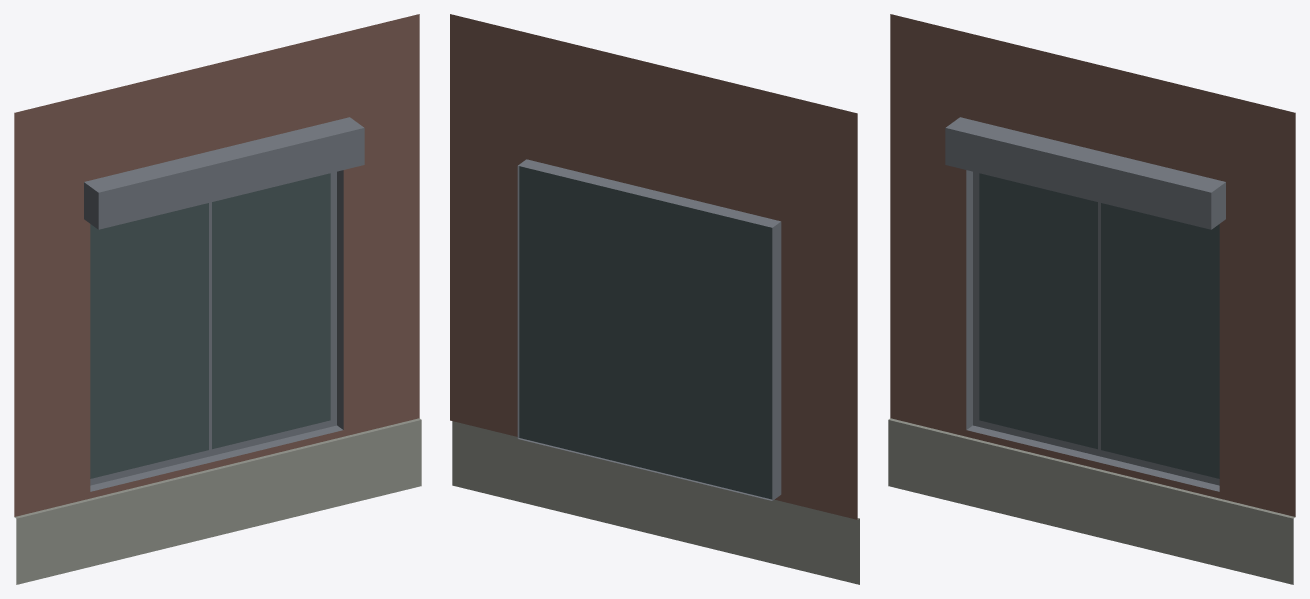
3 renders of one model, left to right at view 1: azimuth 30°, elevation 25°; view 2: azimuth 150°, elevation 25°; view 3: azimuth 330°, elevation 25°, orthographic.
Parts seen in each view (by area): view 1: a2000s2/0/base-w3; view 2: a2000s2/0/base-w3; view 3: a2000s2/0/base-w3.
Part boxes in pixels (<box>): a2000s2/0/base-w3: <box>14,14,421,584</box>; a2000s2/0/base-w3: <box>450,14,859,584</box>; a2000s2/0/base-w3: <box>888,14,1295,584</box>.
Size of the model in its own units: 3.2 by 3.55 by 0.32.
